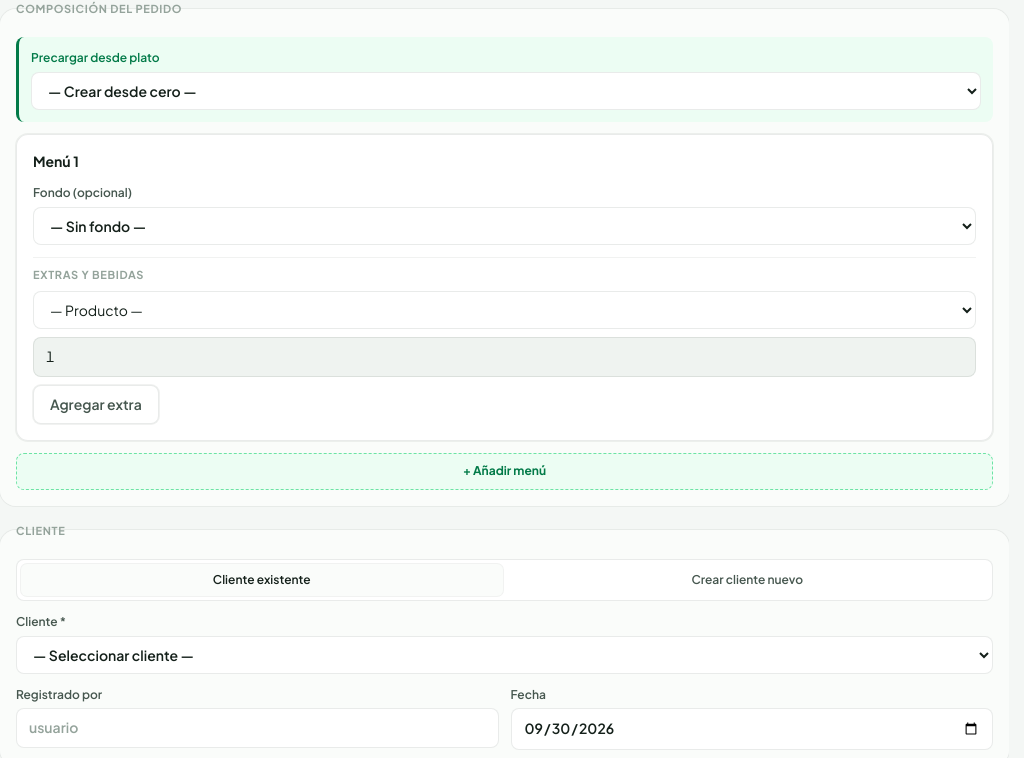
PedidoForm › muestra personalización del fondo cuando se selecciona un fondo
This screenshot has width=1024, height=758.
// Seleccionar un fondo en el primer menú
Select "Pescado frito — $6.500" in the dropdown labelled "Fondo (opcional)" at (504, 226), box 33,207 -> 976,245
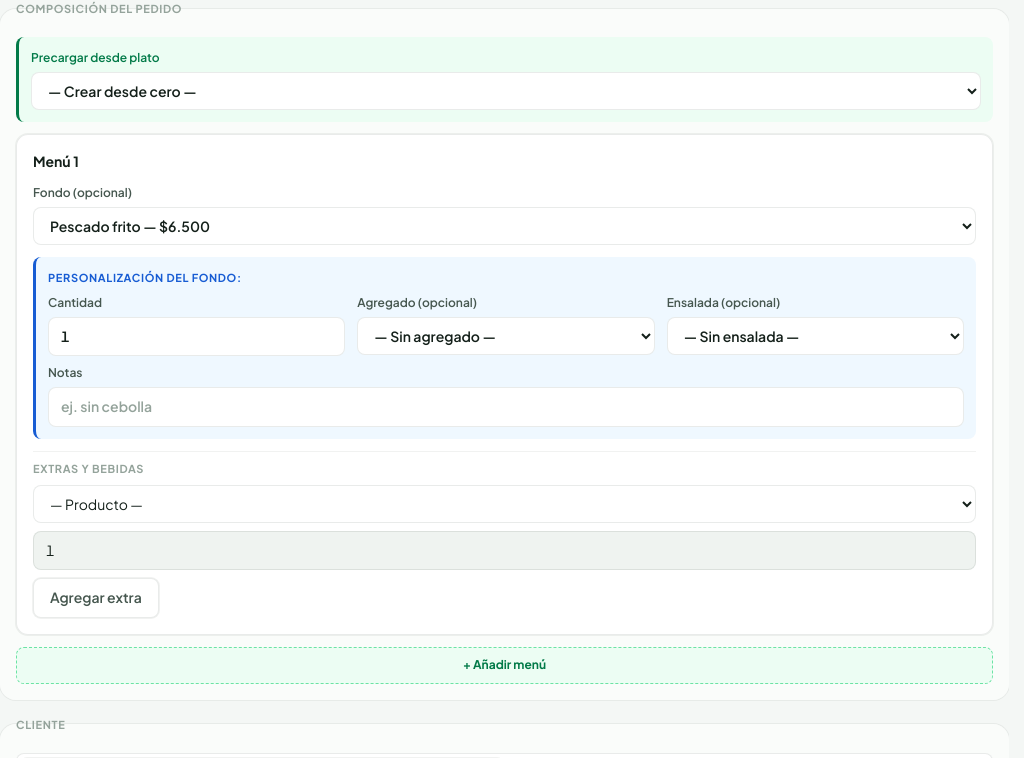
Expected: the text "Personalización del fondo:" is shown, 48,271 -> 242,284
